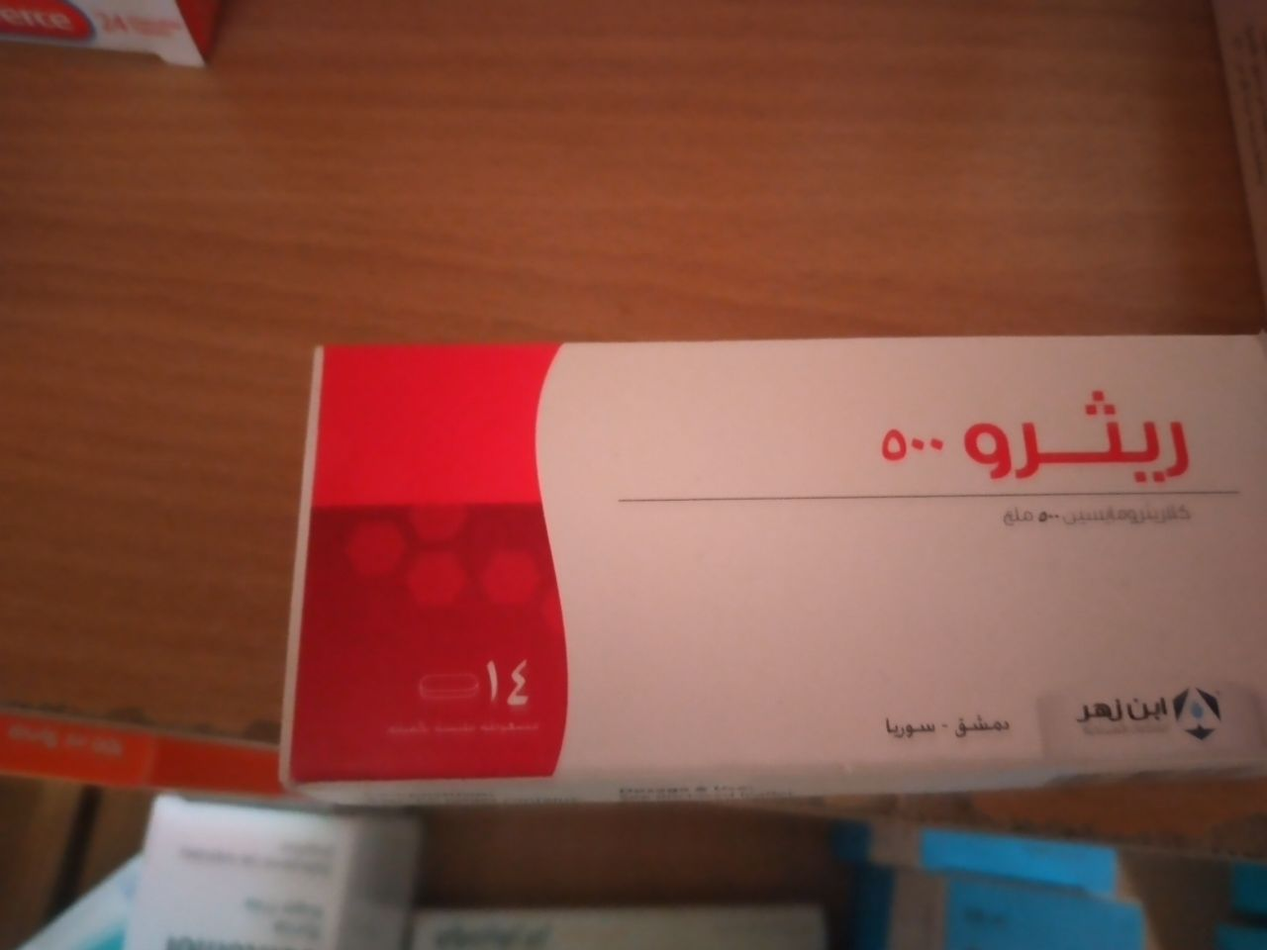Medicine: (270, 302, 1267, 804)
